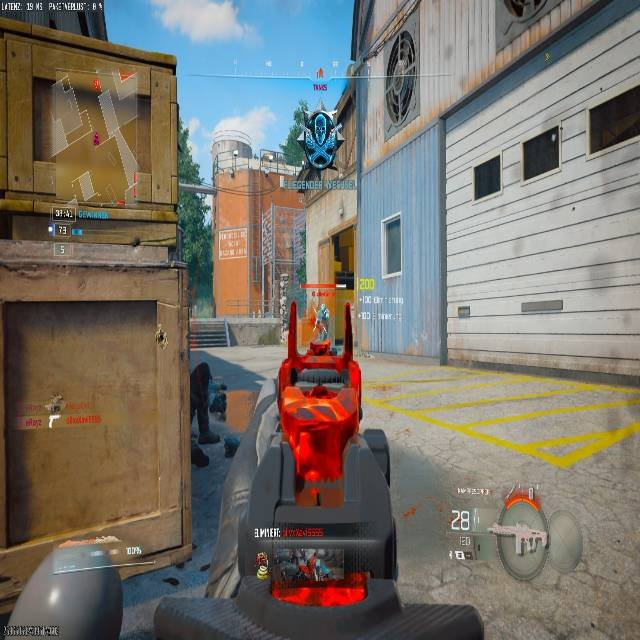head: (319, 304, 326, 311)
player: (289, 105, 345, 194), (315, 304, 329, 339)
